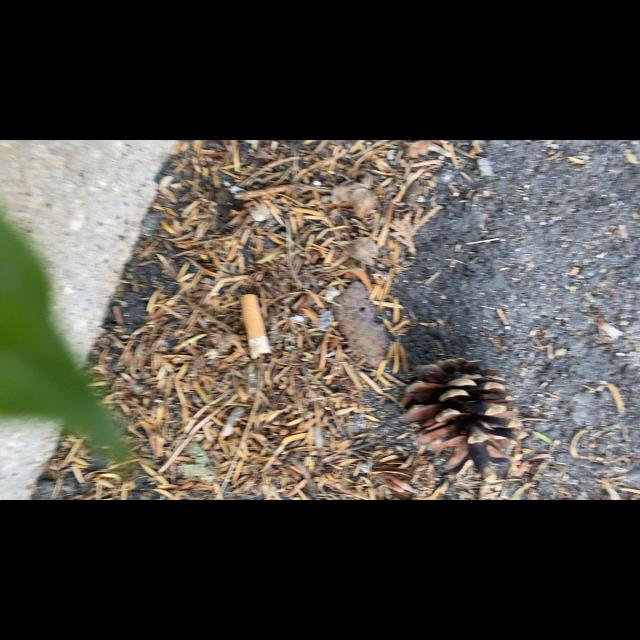cigarette: (239, 292, 272, 360)
